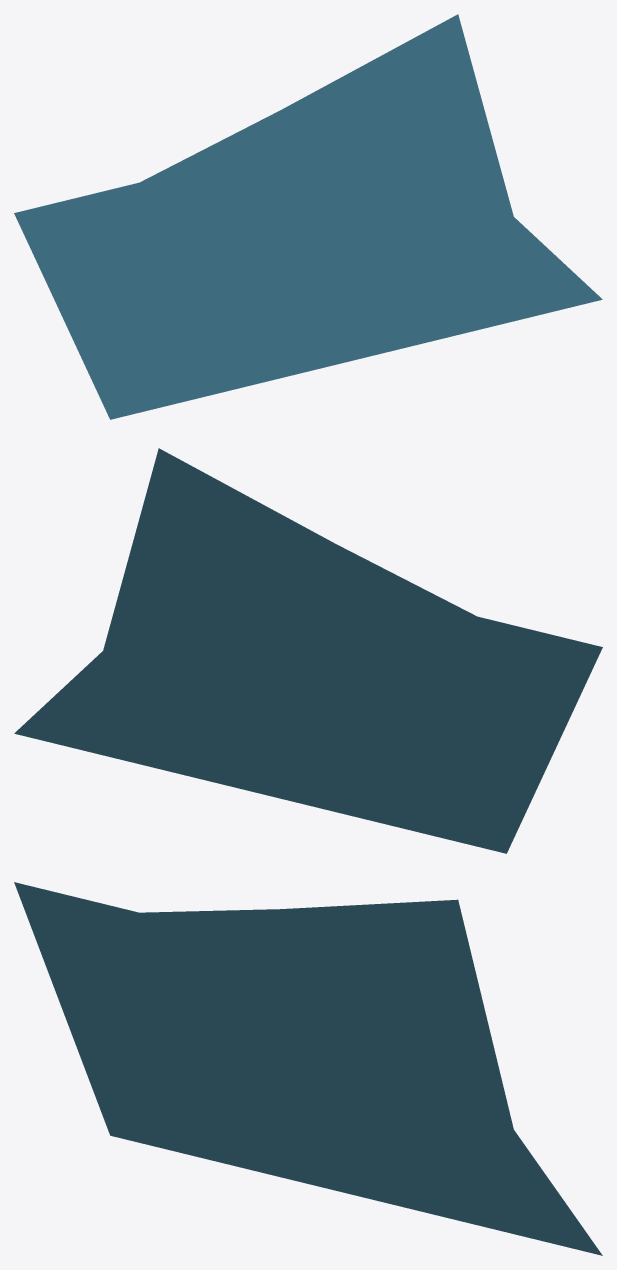
Rendered from NexusA_Cloth_34.fbx.
The picture shows the model from 3 angles, top to bottom: view 1: azimuth 30°, elevation 25°; view 2: azimuth 150°, elevation 25°; view 3: azimuth 330°, elevation 25°; orthographic projection.
Parts seen in each view (by area): view 1: pasted__polySurface102; view 2: pasted__polySurface102; view 3: pasted__polySurface102.
Boxes of the visible parts, x1,y1,x2,y2 form: pasted__polySurface102: [14, 14, 602, 419]; pasted__polySurface102: [14, 448, 602, 853]; pasted__polySurface102: [14, 882, 602, 1255].
Bounding box in the file's own units: 70.86 × 36.89 × 0.
